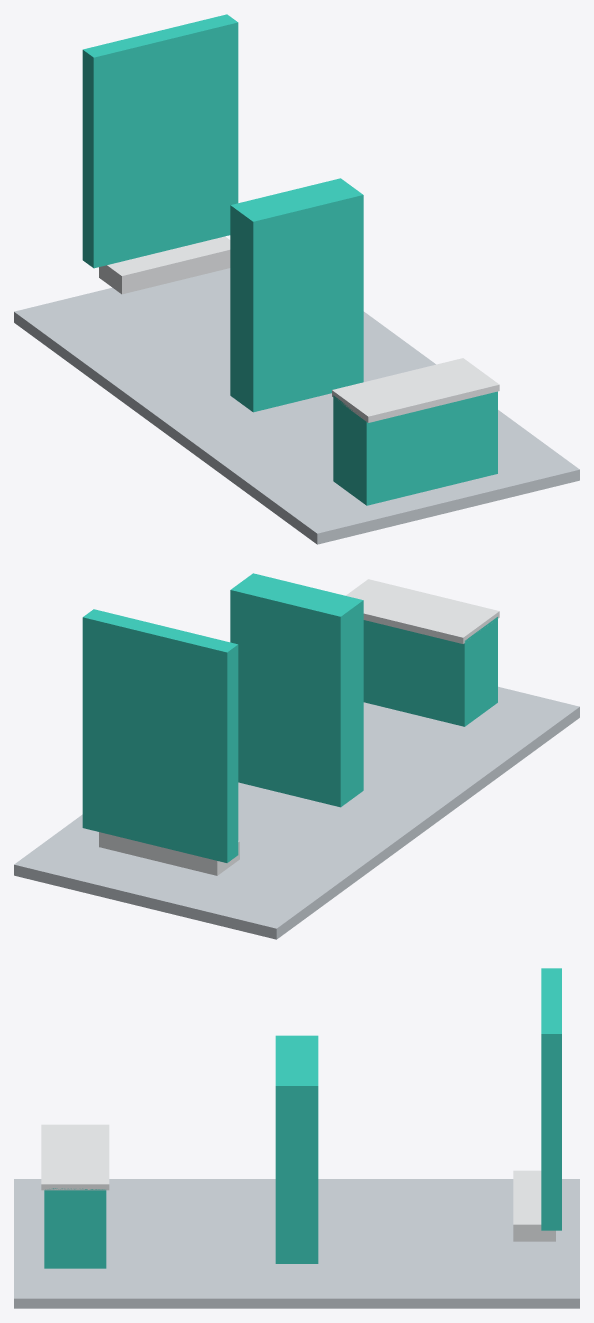
3 views of the same model, one above another, from view 1: azimuth 30°, elevation 25°; view 2: azimuth 150°, elevation 25°; view 3: azimuth 270°, elevation 25° (orthographic). The views are drawn at different scales.
Visible parts, largest first — view 1: Exhibition Booth Concept; view 2: Exhibition Booth Concept; view 3: Exhibition Booth Concept.
Boxes of the visible parts, x1,y1,x2,y2 form: Exhibition Booth Concept: [14, 14, 579, 544]; Exhibition Booth Concept: [14, 573, 579, 939]; Exhibition Booth Concept: [14, 968, 579, 1308].
Size of the model in its own units: 3 by 2.9 by 6.
